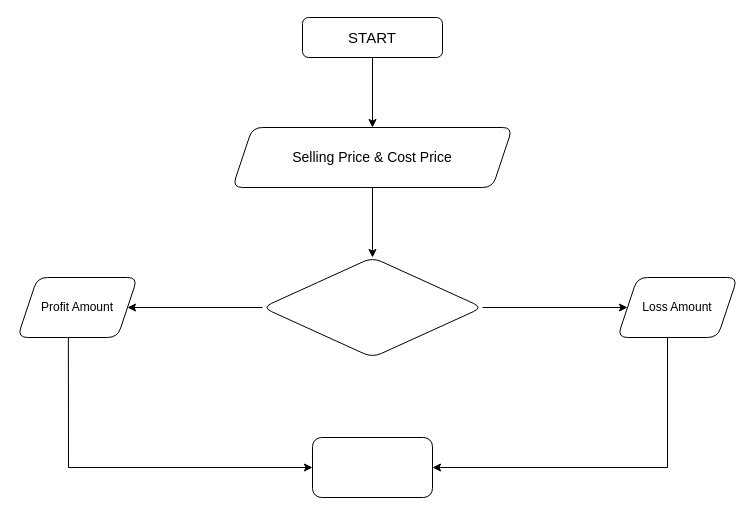
Image size: 755x515. Some labels were removed from this diagram. The centre of each missing label's shape, as x and y in pixels:
"END" belongs at point 372,467.
"Profit or Loss ?" belongs at point 372,307.
